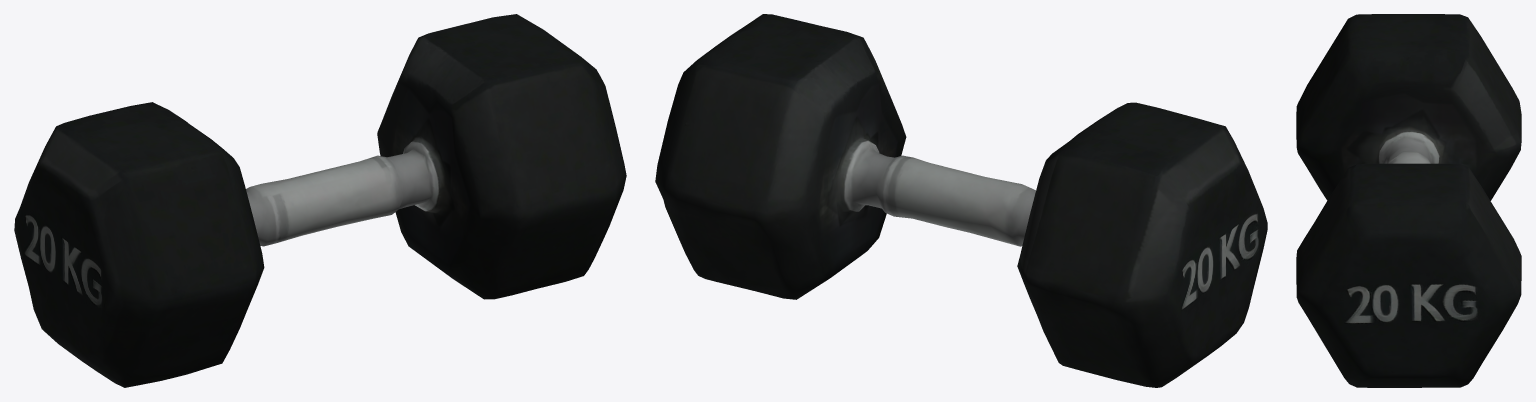
File: dumbbell.glb
The picture shows the model from 3 angles, left to right: view 1: azimuth 30°, elevation 25°; view 2: azimuth 150°, elevation 25°; view 3: azimuth 270°, elevation 25°; orthographic projection. The views are drawn at different scales.
Visible parts, largest first — view 1: input; view 2: input; view 3: input.
Boxes of the visible parts, left/top/right/bottom form: input: left=14, top=14, right=626, bottom=387; input: left=655, top=14, right=1267, bottom=387; input: left=1296, top=14, right=1521, bottom=387.
Size of the model in its own units: 0.42 by 0.1718 by 0.1876.
1 material, 1 textured.
